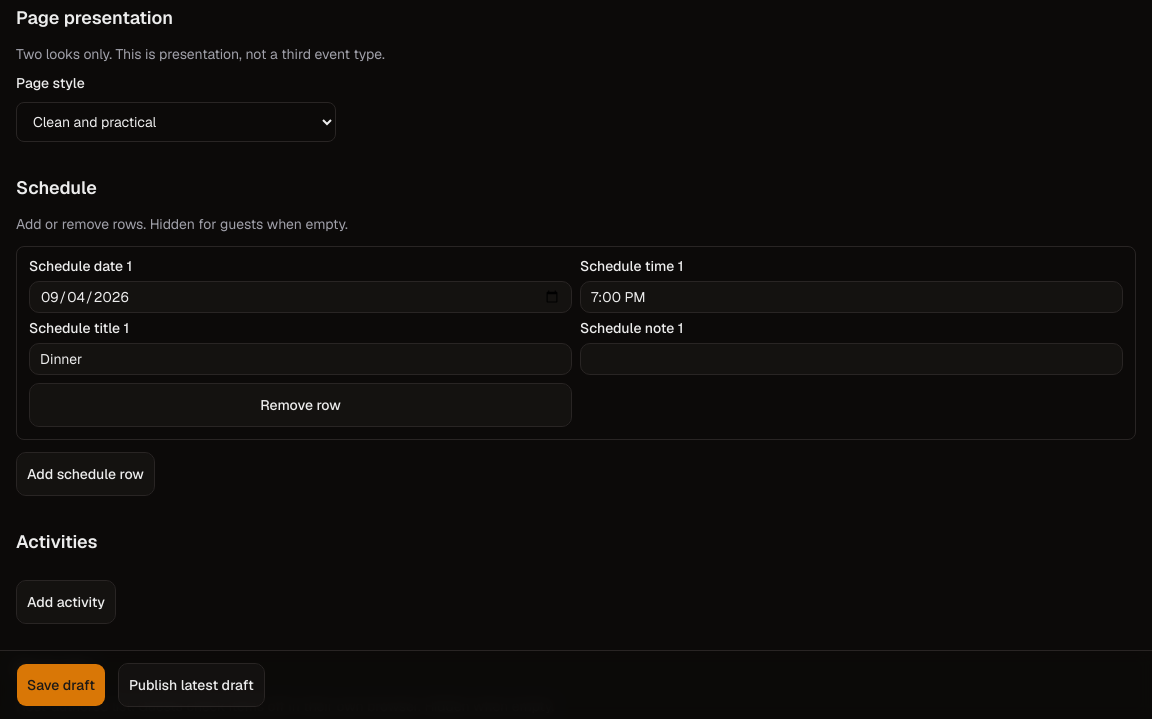
Test: HostEditor draft review safety › invalidates acknowledgement and saved state when Schedule title 1 changes
The image size is (1152, 719).
(page scrolled)
Step 1. Replace the text in the field labelled "Schedule title 1" with "Late dinner" → (300, 359), box [29,343,572,375]
(page scrolled)
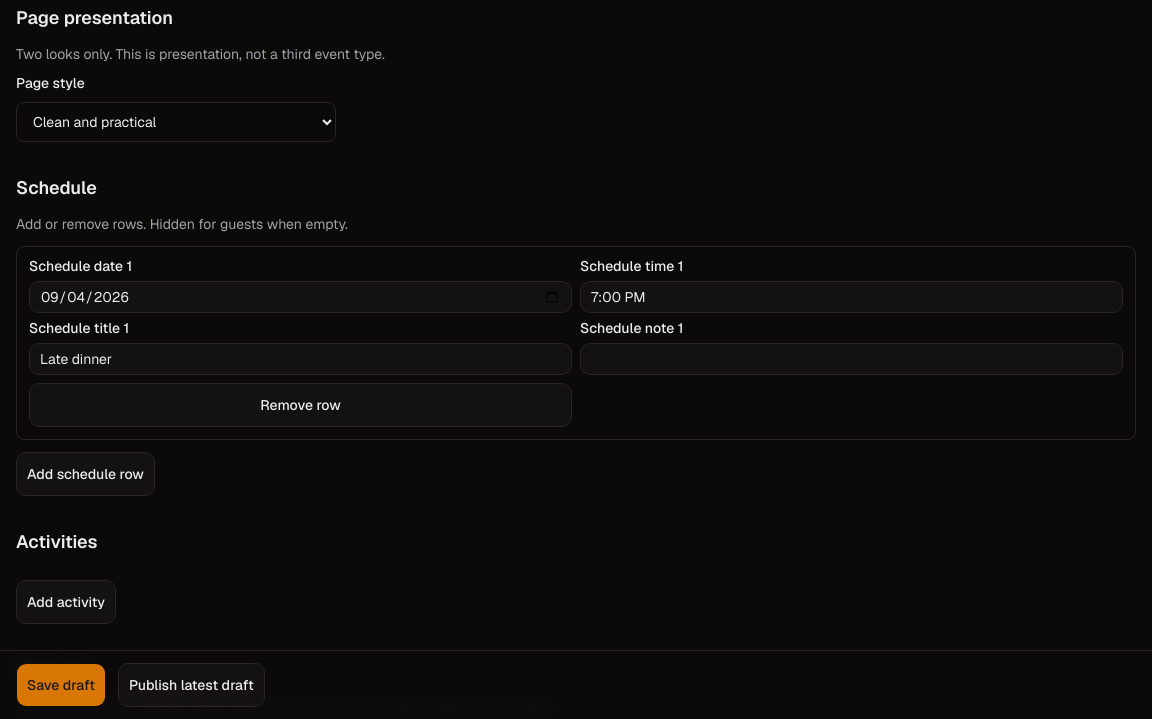
Step 2. Click the button "Publish latest draft" → (191, 685), box [118,663,265,707]
(page scrolled)
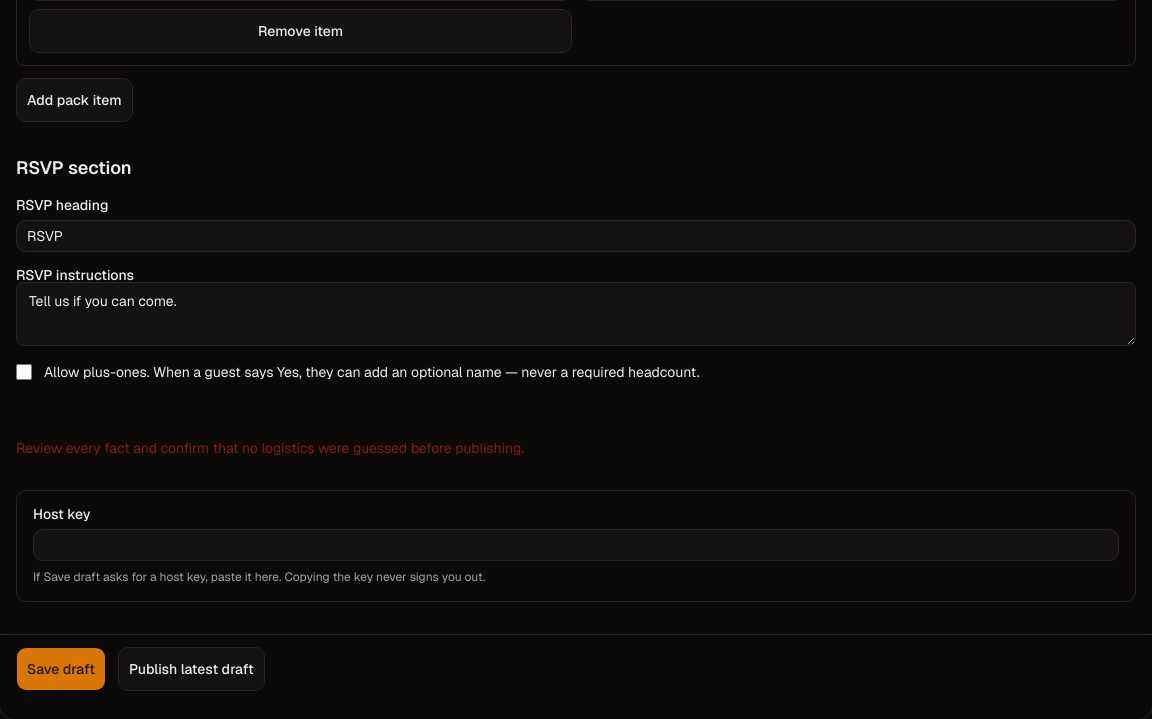
expect the message shows "Review every fact": met, box [16,439,524,457]
